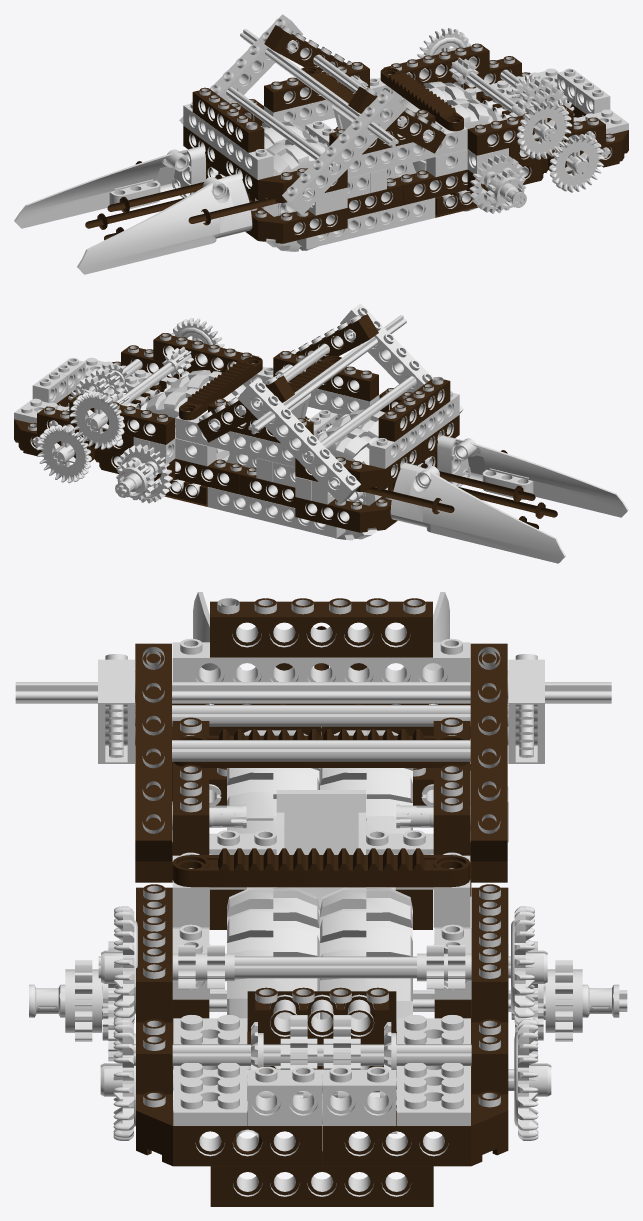
Rendered from constructmaterials.dae.
The picture shows the model from 3 angles, top to bottom: view 1: azimuth 30°, elevation 25°; view 2: azimuth 150°, elevation 25°; view 3: azimuth 270°, elevation 25°; orthographic projection. The views are drawn at different scales.
Visible parts, largest first — view 1: Inner-Node-batmobile_dot_io-85.001, Inner-Node-batmobile_dot_io-84.001, Inner-Node-batmobile_dot_io-71.001, Inner-Node-batmobile_dot_io-3.001, Inner-Node-batmobile_dot_io-33.001, Inner-Node-batmobile_dot_io-72.001, Inner-Node-batmobile_dot_io-7.001, Inner-Node-batmobile_dot_io-6.001, Inner-Node-batmobile_dot_io-30.001, Inner-Node-batmobile_dot_io-82.001, Inner-Node-batmobile_dot_io-70.001, Inner-Node-batmobile_dot_io-88.001 (+43 smaller); view 2: Inner-Node-batmobile_dot_io-84.001, Inner-Node-batmobile_dot_io-85.001, Inner-Node-batmobile_dot_io-82.001, Inner-Node-batmobile_dot_io-2.001, Inner-Node-batmobile_dot_io-32.001, Inner-Node-batmobile_dot_io-72.001, Inner-Node-batmobile_dot_io-11.001, Inner-Node-batmobile_dot_io-10.001, Inner-Node-batmobile_dot_io-31.001, Inner-Node-batmobile_dot_io-71.001, Inner-Node-batmobile_dot_io-70.001, Inner-Node-batmobile_dot_io-89.001 (+44 smaller); view 3: Inner-Node-batmobile_dot_io-72.001, Inner-Node-batmobile_dot_io-104.001, Inner-Node-batmobile_dot_io-93.001, Inner-Node-batmobile_dot_io-86.001, Inner-Node-batmobile_dot_io-1.001, Inner-Node-batmobile_dot_io-28.001, Inner-Node-batmobile_dot_io-0.001, Inner-Node-batmobile_dot_io-70.001, Inner-Node-batmobile_dot_io-29.001, Inner-Node-batmobile_dot_io-95.001, Inner-Node-batmobile_dot_io-20.001, Inner-Node-batmobile_dot_io-102.001 (+49 smaller).
Boxes of the visible parts, x1,y1,x2,y2 form: Inner-Node-batmobile_dot_io-85.001: (77,174,252,274); Inner-Node-batmobile_dot_io-84.001: (14,146,205,228); Inner-Node-batmobile_dot_io-71.001: (282,89,405,214); Inner-Node-batmobile_dot_io-3.001: (245,207,347,243); Inner-Node-batmobile_dot_io-33.001: (297,198,435,249); Inner-Node-batmobile_dot_io-72.001: (192,87,264,152); Inner-Node-batmobile_dot_io-7.001: (516,101,572,159); Inner-Node-batmobile_dot_io-6.001: (549,134,604,192); Inner-Node-batmobile_dot_io-30.001: (347,122,467,178); Inner-Node-batmobile_dot_io-82.001: (179,14,302,124); Inner-Node-batmobile_dot_io-70.001: (183,102,273,179); Inner-Node-batmobile_dot_io-88.001: (383,43,489,85); Inner-Node-batmobile_dot_io-84.001: (390,462,565,563); Inner-Node-batmobile_dot_io-85.001: (437,435,628,517); Inner-Node-batmobile_dot_io-82.001: (237,378,360,504); Inner-Node-batmobile_dot_io-2.001: (295,496,397,532); Inner-Node-batmobile_dot_io-32.001: (207,487,345,538); Inner-Node-batmobile_dot_io-72.001: (378,376,450,441); Inner-Node-batmobile_dot_io-11.001: (69,391,124,449); Inner-Node-batmobile_dot_io-10.001: (36,424,91,483); Inner-Node-batmobile_dot_io-31.001: (175,411,295,467); Inner-Node-batmobile_dot_io-71.001: (340,303,463,413); Inner-Node-batmobile_dot_io-70.001: (369,391,459,468); Inner-Node-batmobile_dot_io-89.001: (153,333,258,372); Inner-Node-batmobile_dot_io-72.001: (210,598,432,657); Inner-Node-batmobile_dot_io-104.001: (172,848,470,887); Inner-Node-batmobile_dot_io-93.001: (15,682,611,703); Inner-Node-batmobile_dot_io-86.001: (210,1151,433,1206); Inner-Node-batmobile_dot_io-1.001: (322,1066,508,1166); Inner-Node-batmobile_dot_io-28.001: (470,643,507,861); Inner-Node-batmobile_dot_io-0.001: (136,1066,321,1166); Inner-Node-batmobile_dot_io-70.001: (172,638,470,681); Inner-Node-batmobile_dot_io-29.001: (135,643,171,861); Inner-Node-batmobile_dot_io-95.001: (320,887,412,1097); Inner-Node-batmobile_dot_io-20.001: (227,887,319,1100); Inner-Node-batmobile_dot_io-102.001: (173,1015,247,1125).
Size of the model in its own units: 27.03 by 13.12 by 8.06.
